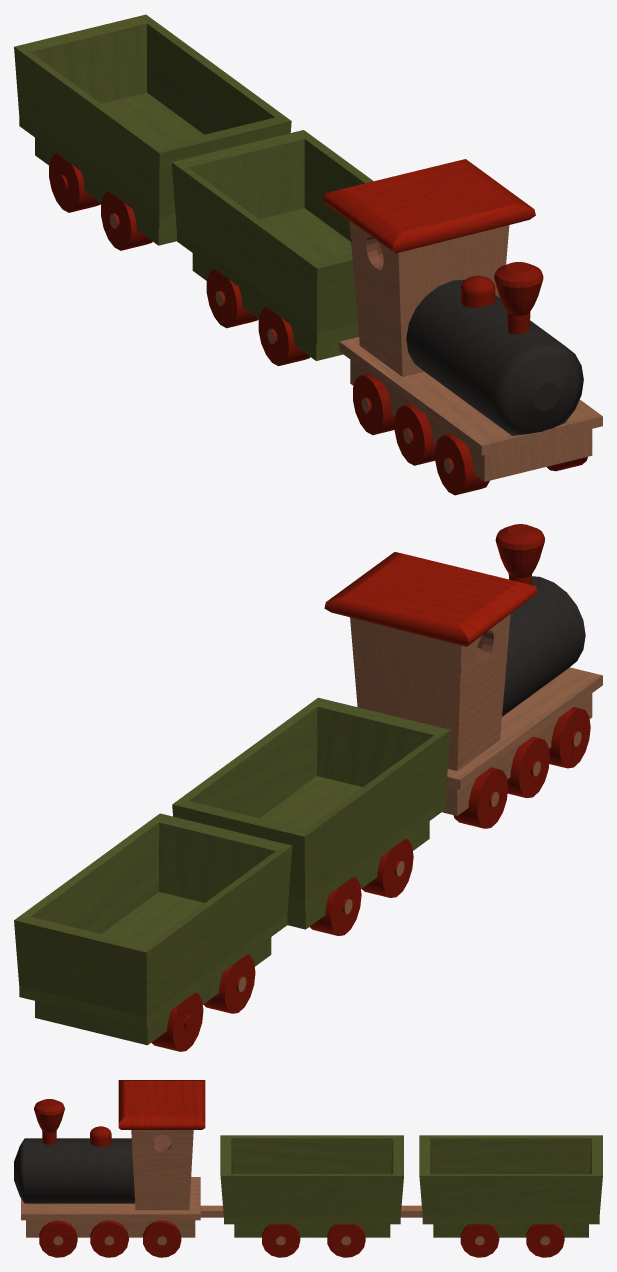
Rendered from holzlock.fbx.
3 views of the same model, one above another, from view 1: azimuth 30°, elevation 25°; view 2: azimuth 150°, elevation 25°; view 3: azimuth 270°, elevation 25° (orthographic). The views are drawn at different scales.
Parts seen in each view (by area): view 1: polySurface18; view 2: polySurface18; view 3: polySurface18.
Boxes of the visible parts, x1=… form: polySurface18: x1=14, y1=14, x2=602, y2=495; polySurface18: x1=14, y1=524, x2=602, y2=1051; polySurface18: x1=14, y1=1080, x2=602, y2=1257.
Bounding box in the file's own units: 7.38 × 10.85 × 41.44.
